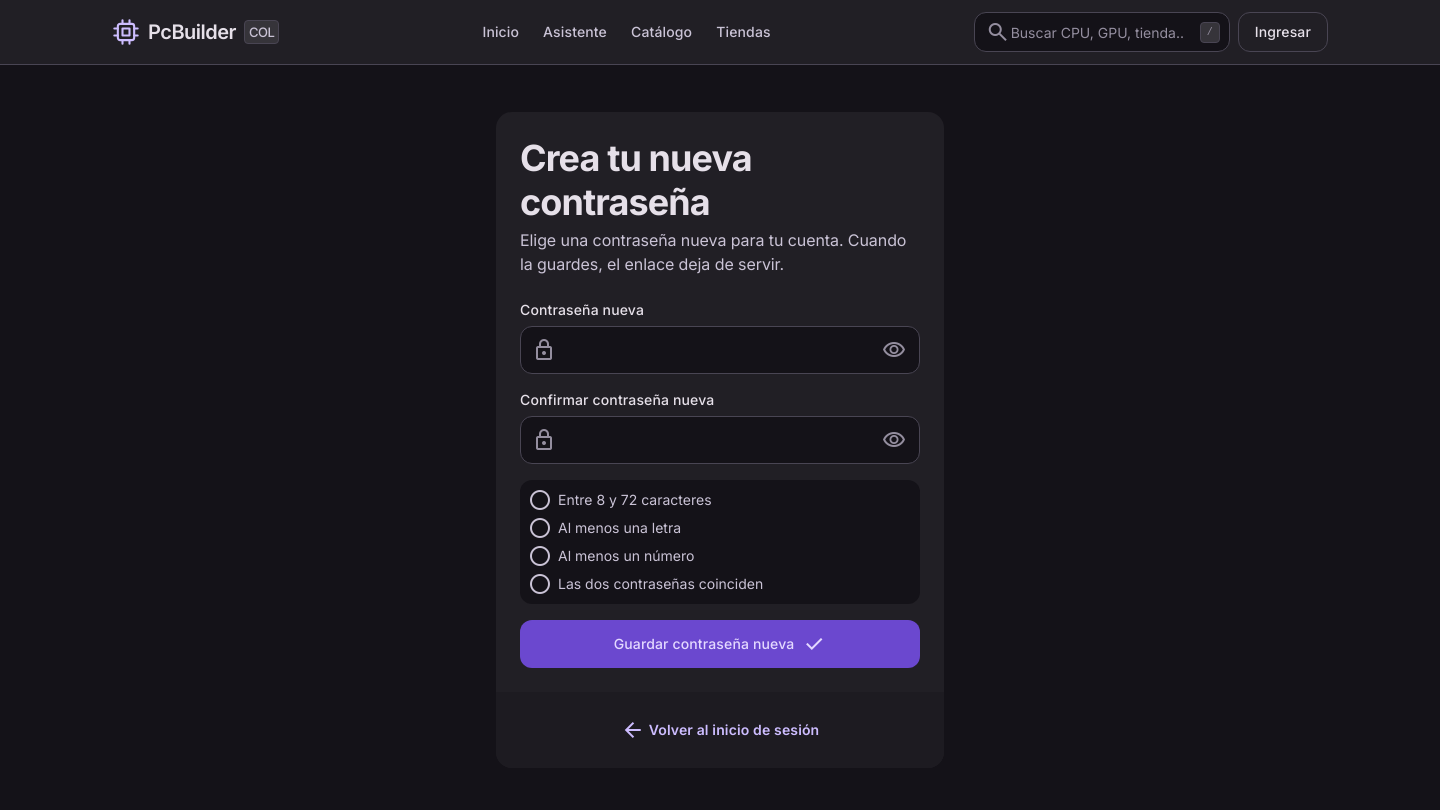
Scenario: Restablecer contraseña: resultado › guarda la contraseña nueva, no manda la confirmación y se puede ingresar con ella
Expected: the heading "Crea tu nueva contraseña" is shown, [520,136,752,224]
Type "Nueva12345" into the password field labelled "Contraseña nueva" at {"x": 720, "y": 350}, box [520,326,920,374]
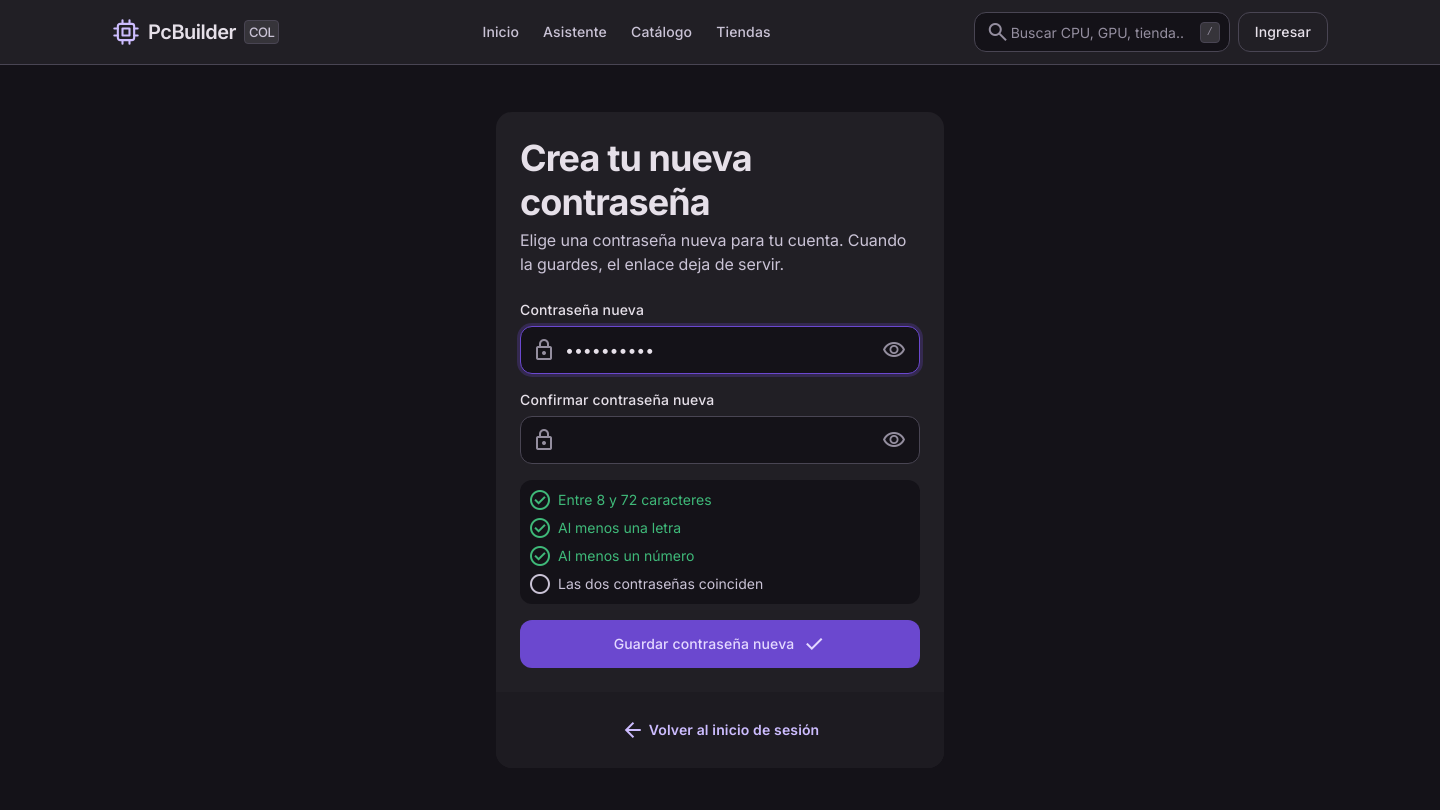
Type "Nueva12345" into the password field labelled "Confirmar contraseña nueva" at {"x": 720, "y": 440}, box [520,416,920,464]
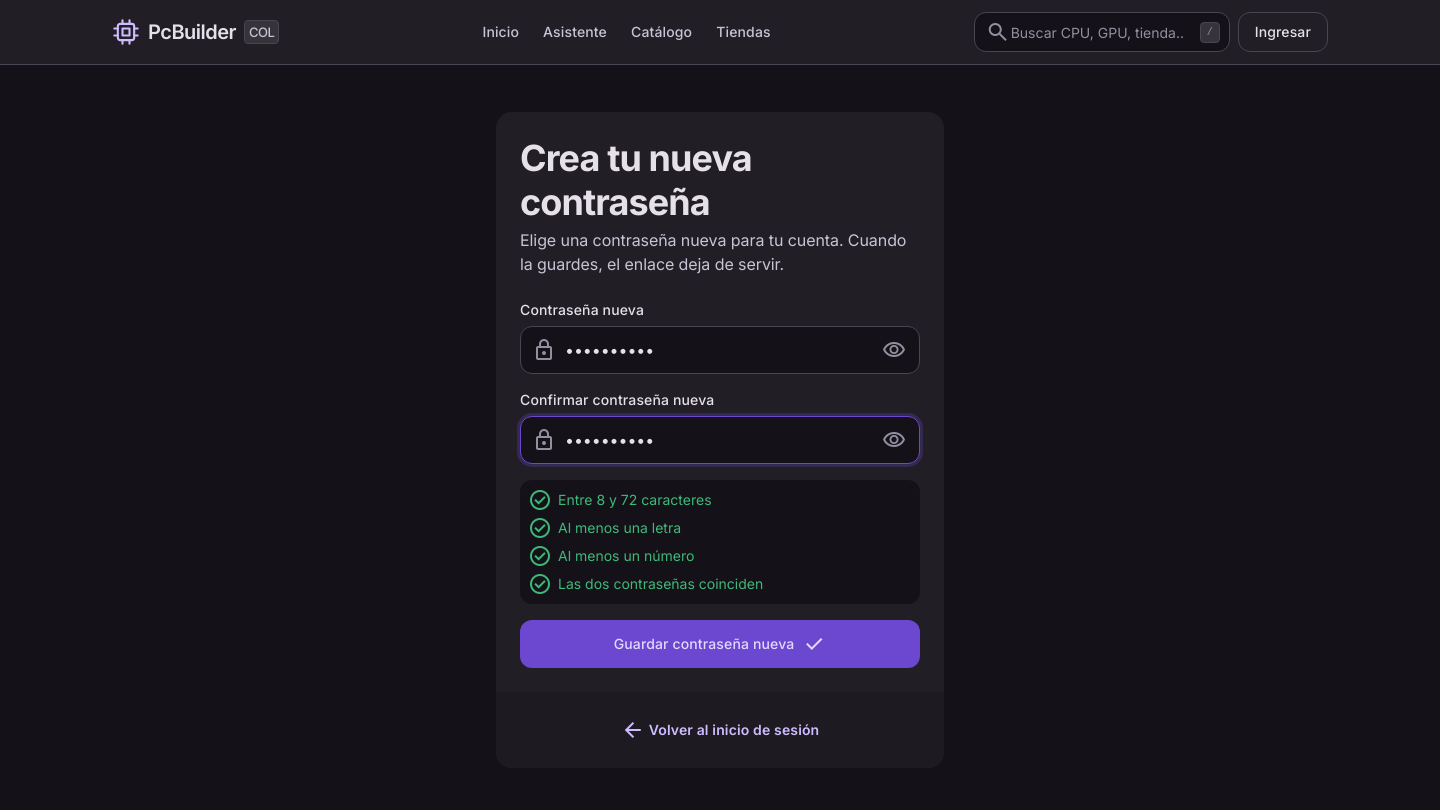
Click the button "Guardar contraseña nueva" at {"x": 720, "y": 644}, box [520,620,920,668]
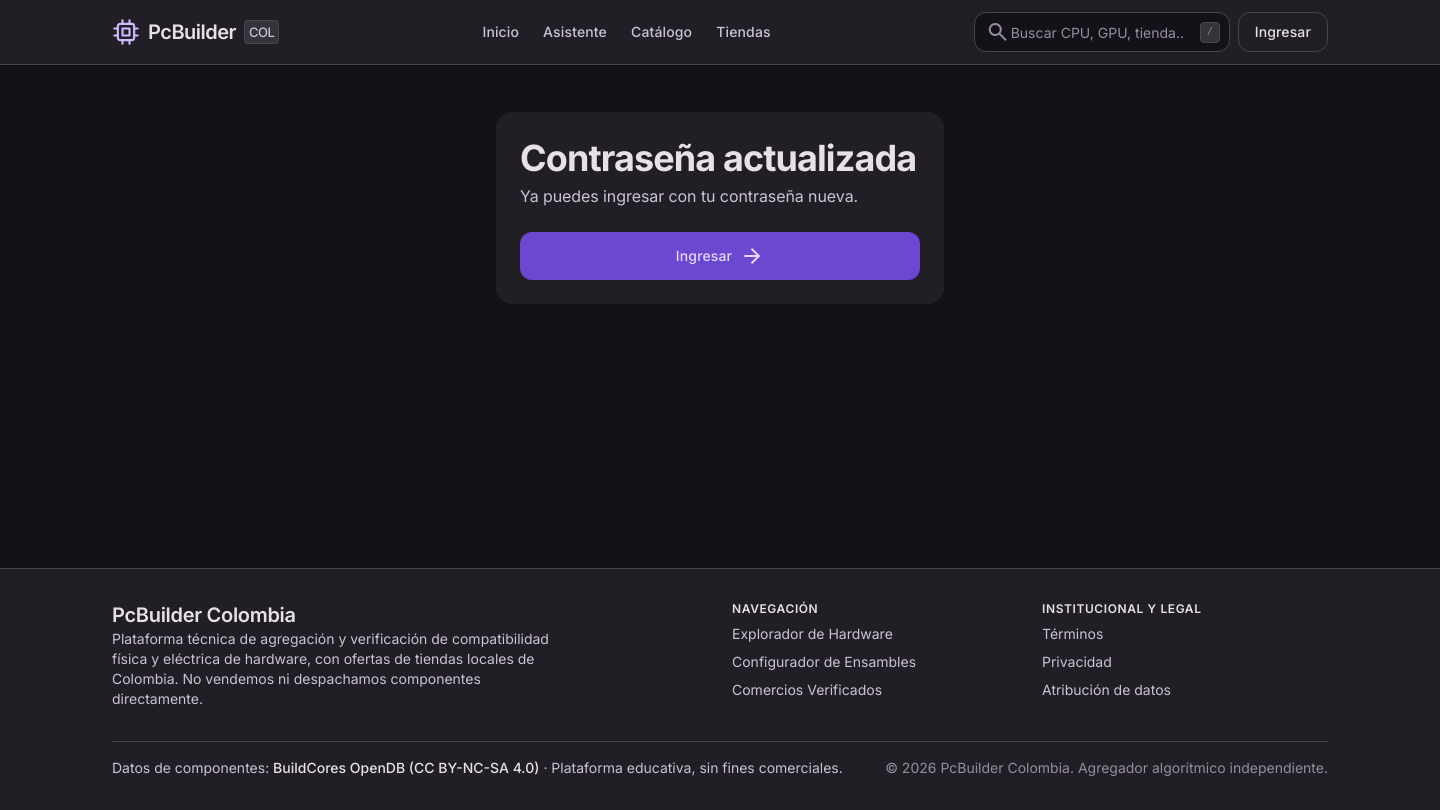
Expected: the heading "Contraseña actualizada" is shown, [520,136,920,180]
